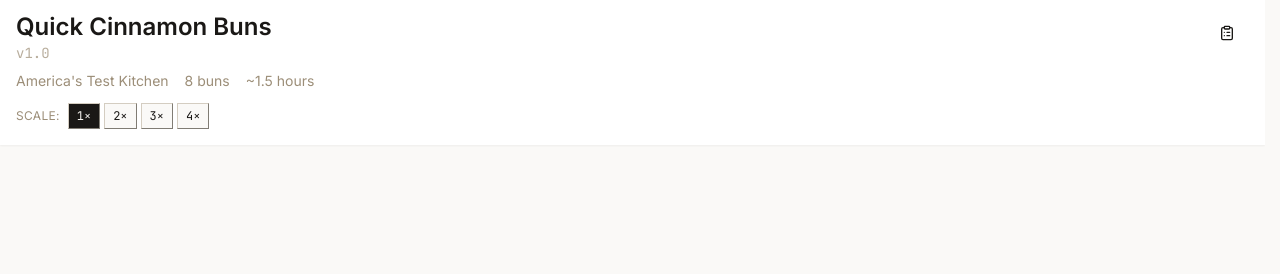
Test case: Scaling › shows scaled yields when multiplier is changed
Step 1. Click the button "2×" → (120, 116), box [104,103,137,129]
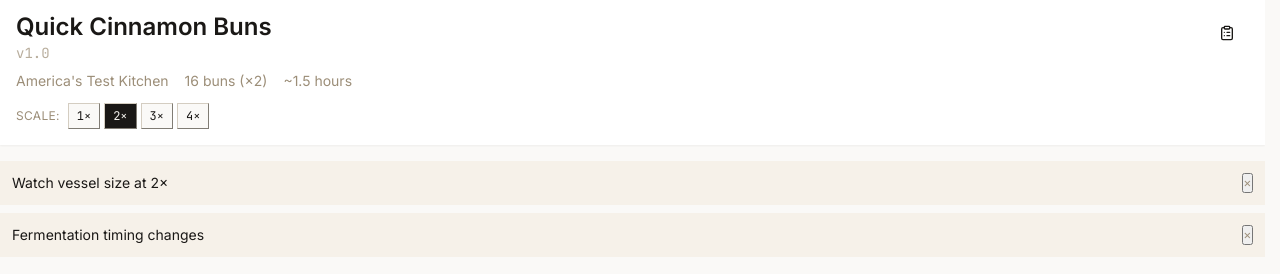
Expected: the text "16 buns" is shown, [185,72,267,89]
Expected: the text "(×2)" is shown, [185,72,267,89]
